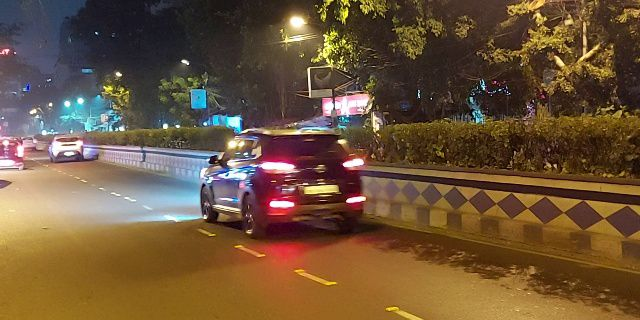Car: (197, 126, 368, 238), (52, 137, 89, 164)
